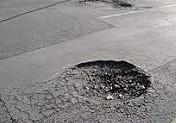alligator-crack: (2, 81, 86, 123)
pothole: (66, 59, 152, 106)
